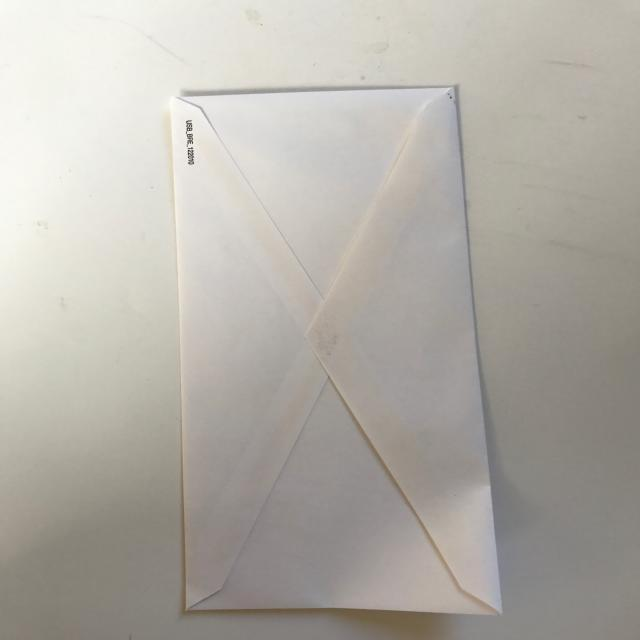paper: (167, 86, 503, 616)
